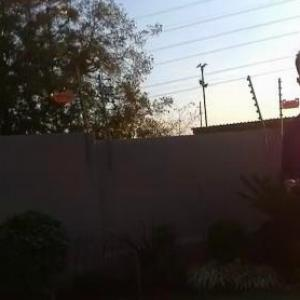follow: (280, 42, 299, 299)
